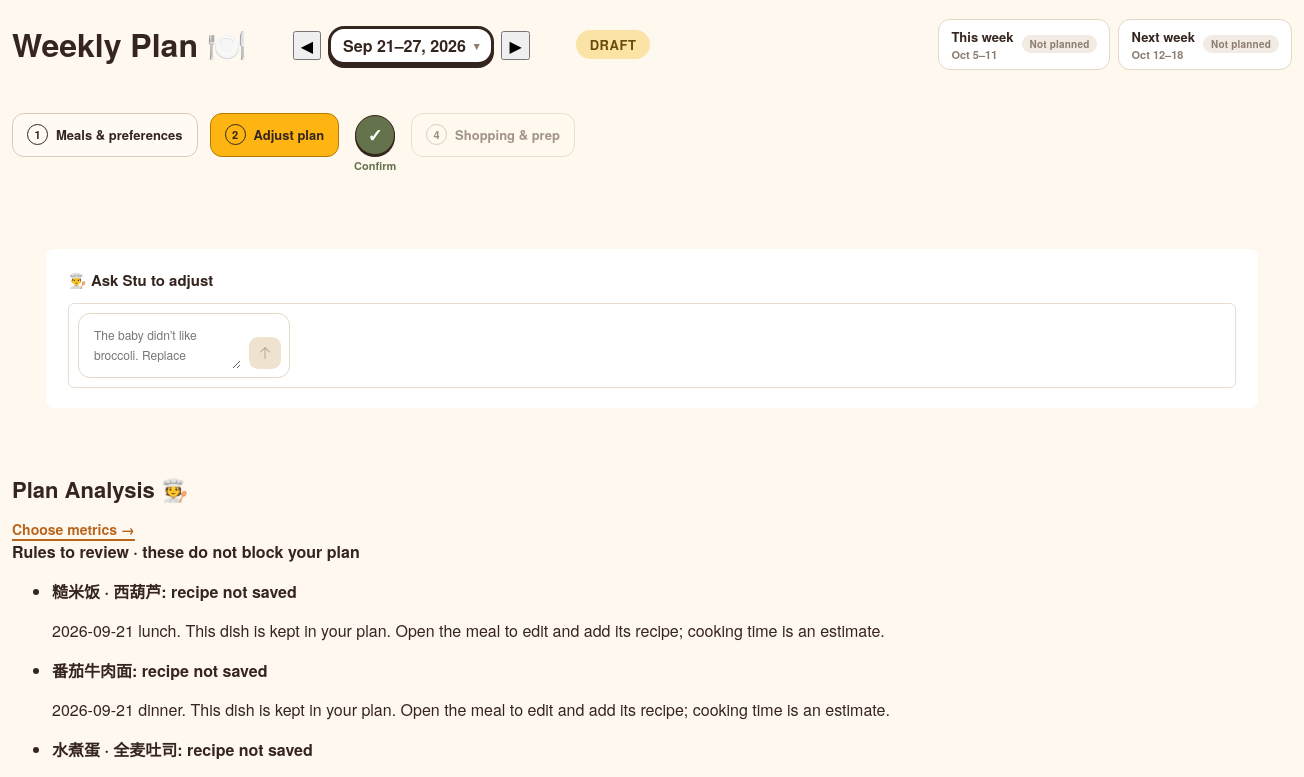
the Stu chat › says why Stu could not answer inside the chat and keeps the message
Replace the text in the text box named "Ask Stu to adjust your plan" with "Add milk" at point(166, 345), box [91,322,241,369]
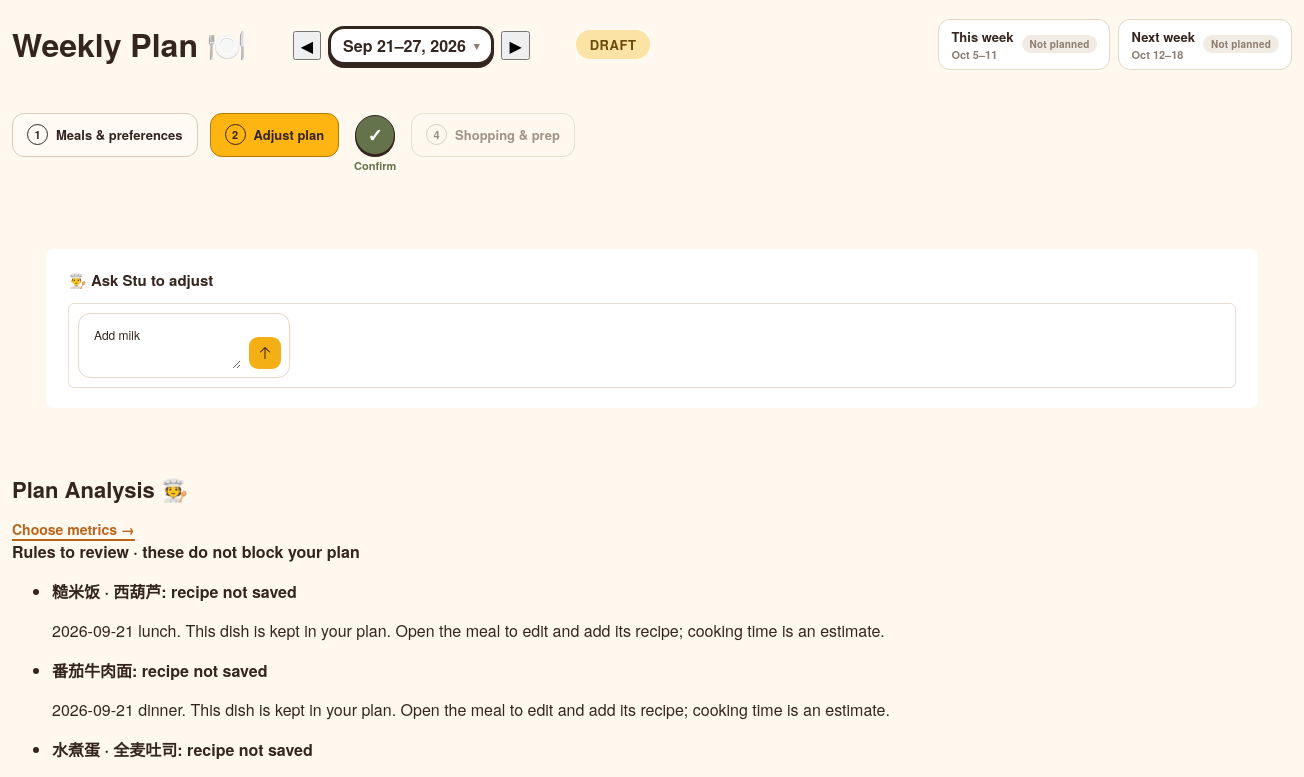
Click the button named "Send plan request" at point(265, 353), box [249,337,281,369]
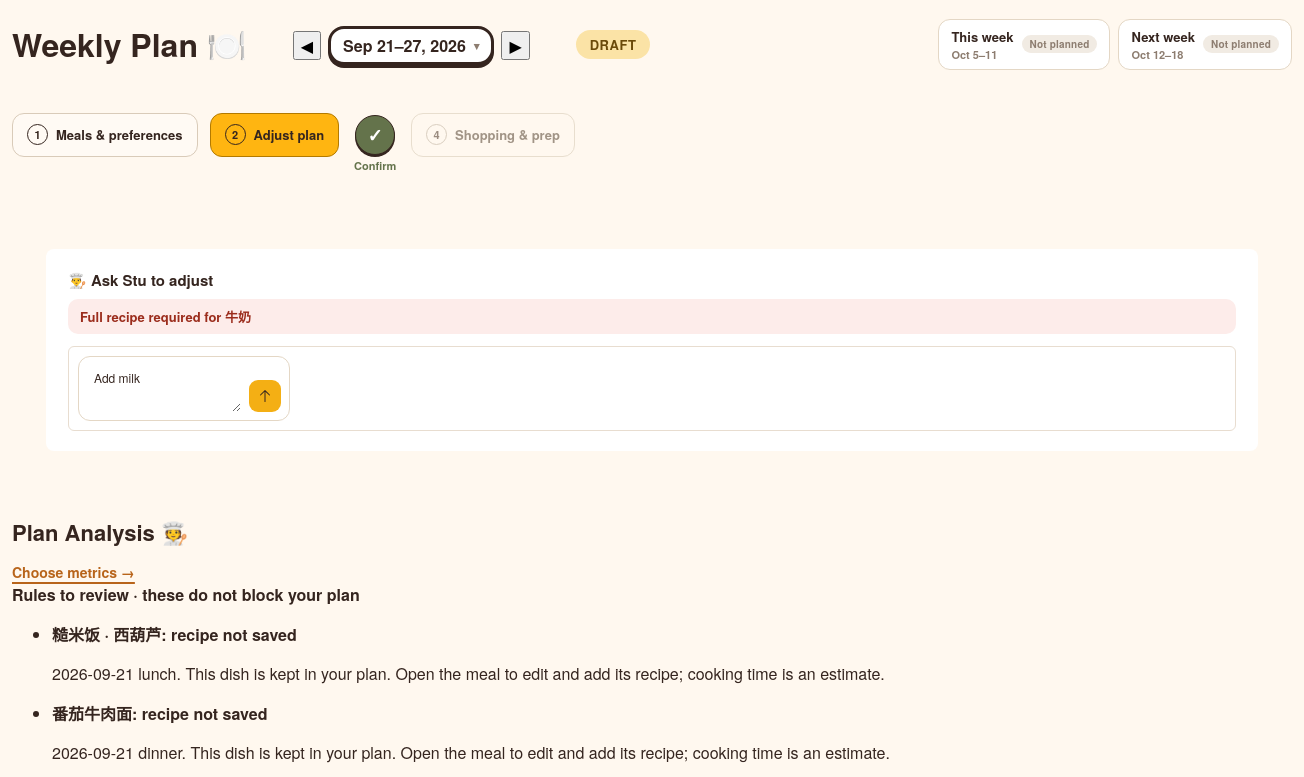
Expected: the element showing "👨‍🍳 Ask Stu to adjust Full recipe required for 牛奶" is shown, [46,249,1258,451]
Expected: the message reads "Full recipe required for 牛奶", [80,307,251,326]
